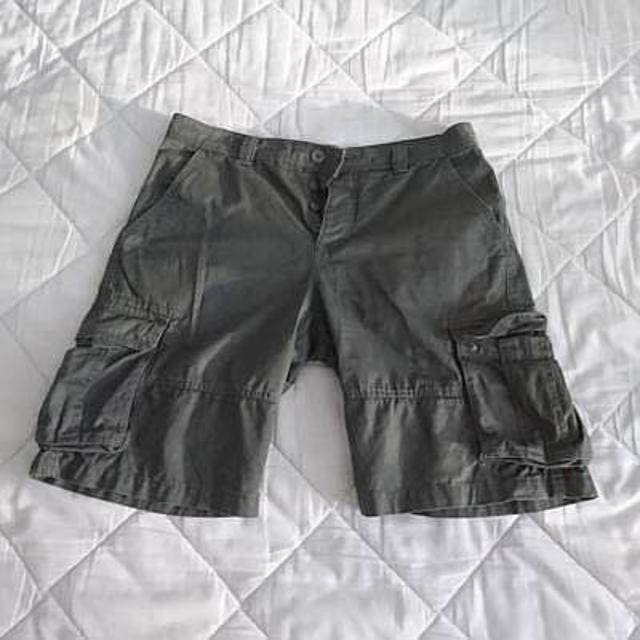SHORT: (32, 108, 613, 523)
